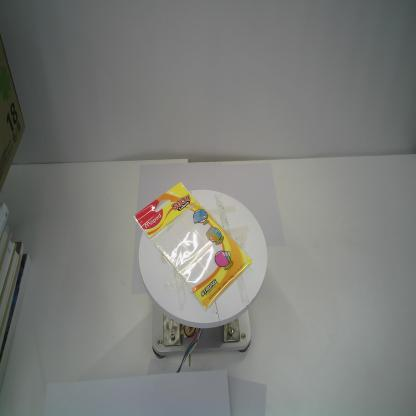Stationery: (133, 181, 253, 310)
